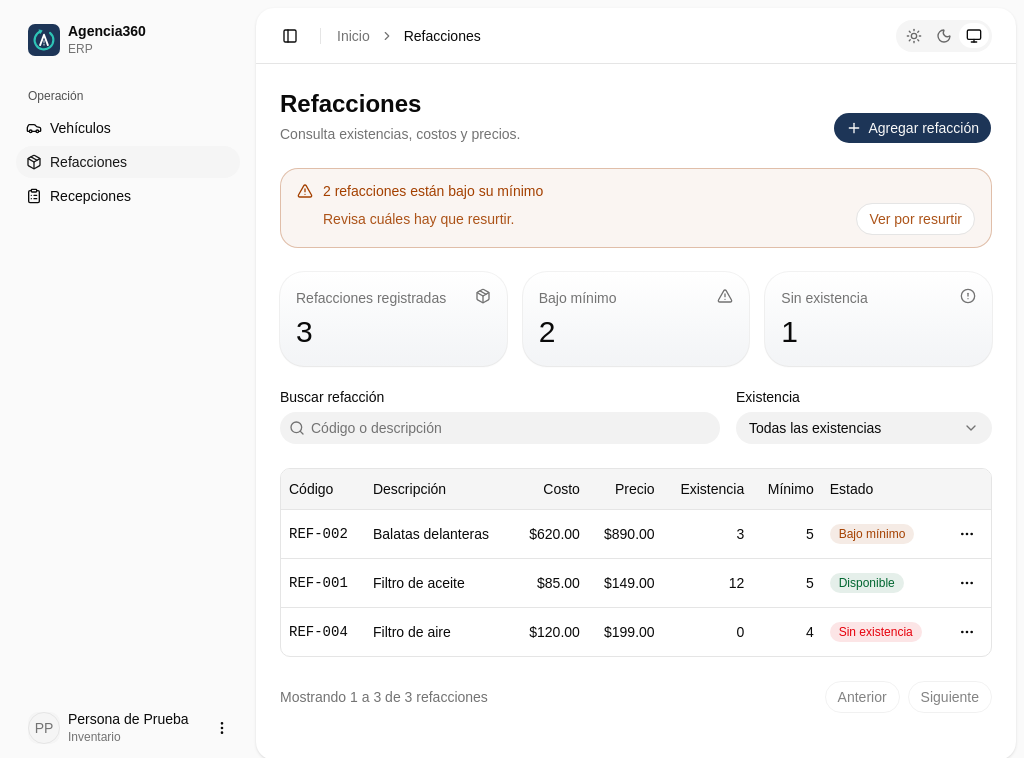
it: Inventario de refacciones › desde la fila, Inventario registra una recepción con la refacción ya elegida
This screenshot has width=1024, height=758.
Click the button named "Acciones de REF-002" at (967, 534), box left=951, top=518, right=983, bottom=550
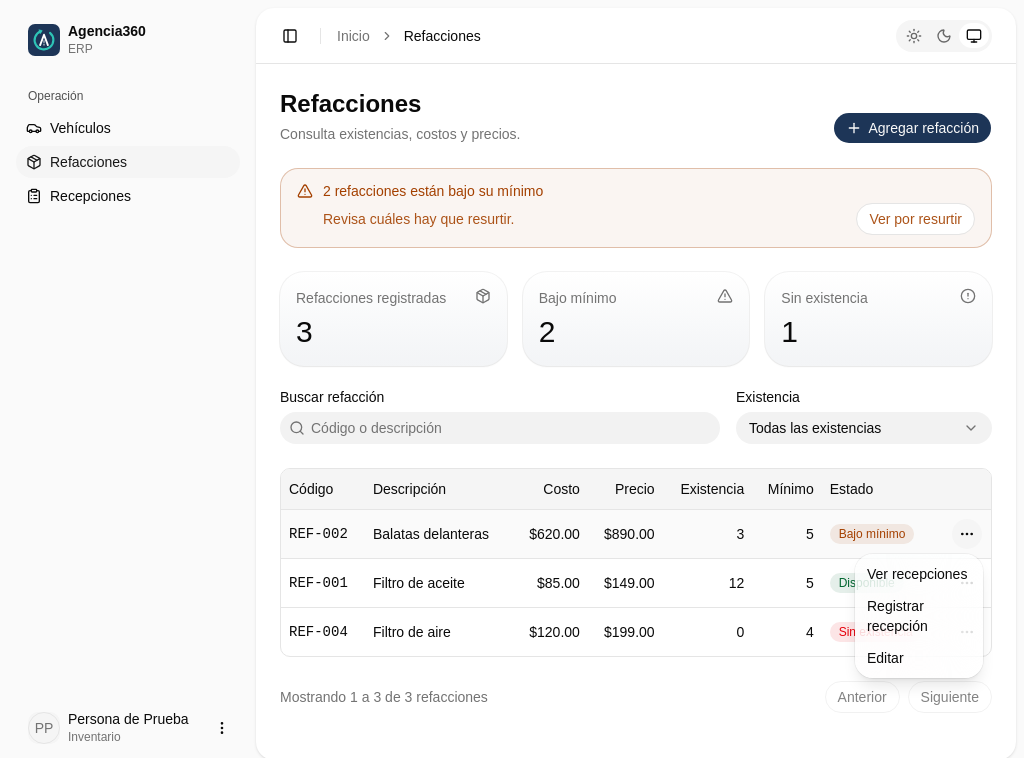
Click the menu item "Registrar recepción" at (897, 616), box left=867, top=598, right=928, bottom=634
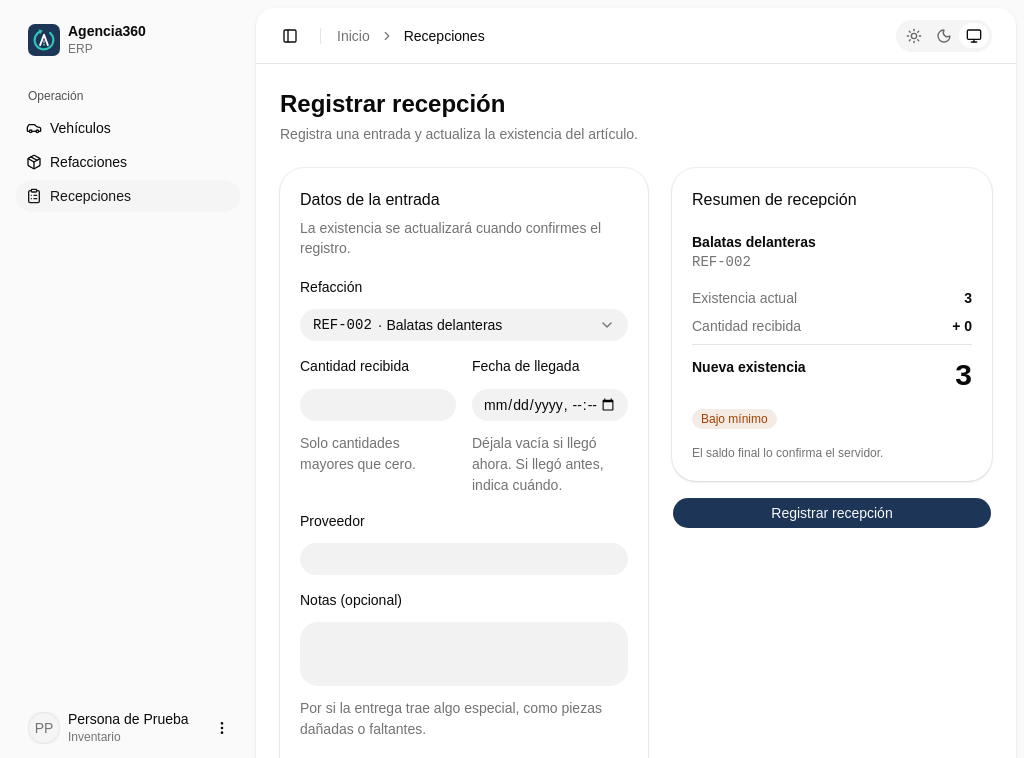
Expected: the heading "Registrar recepción" is shown, left=280, top=90, right=505, bottom=117
Expected: the dropdown named "Refacción" shows "REF-002", left=300, top=309, right=628, bottom=341
